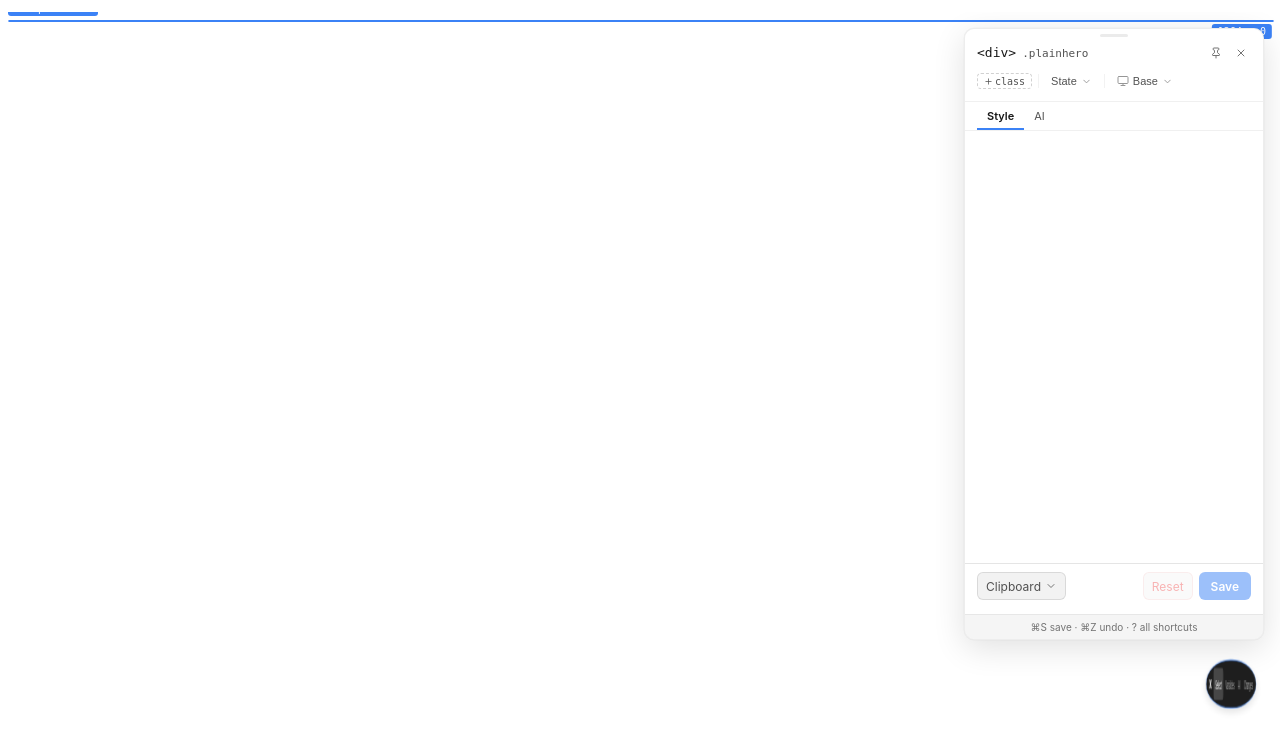
class creation UI (audit 05-class-creation) › rejects a class that is already on the element
Step 1. Click the button with aria-label "Add class" → coordinates (1005, 81), box [977,73,1032,89]
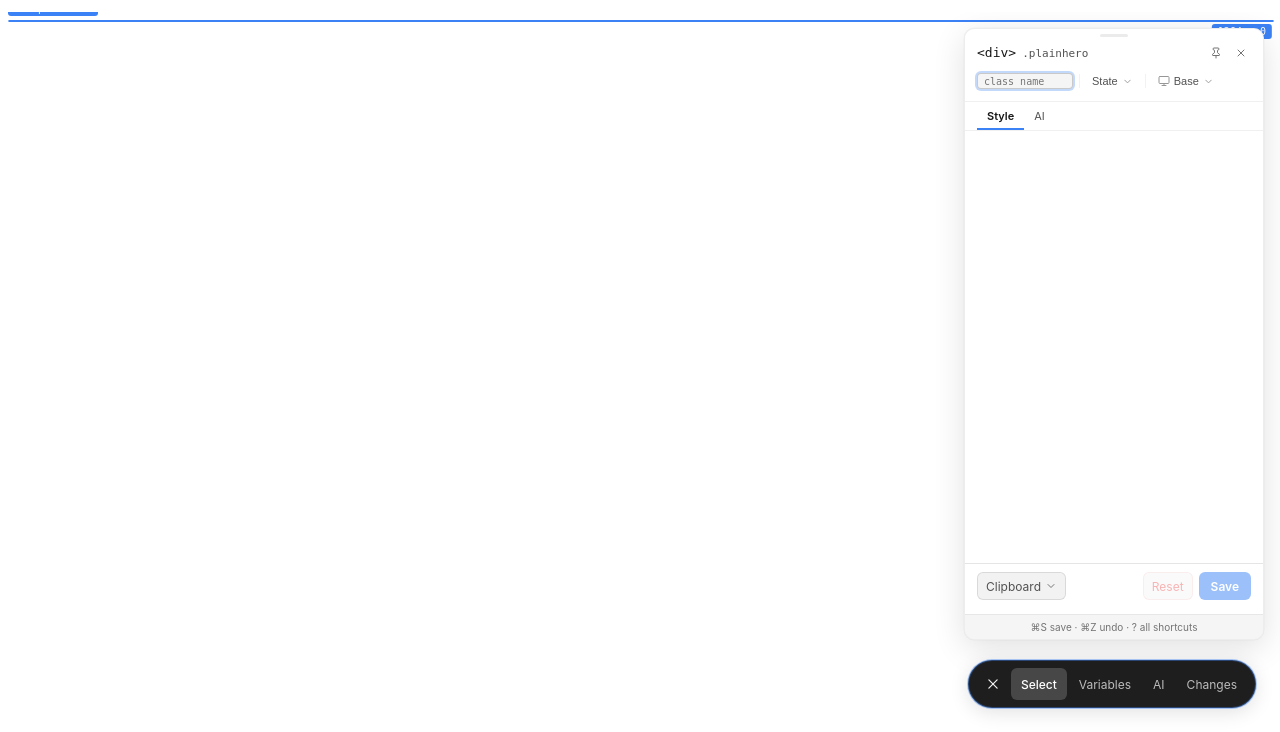
Check: the field named "New class name" is shown
Step 2. Type "plainhero" into the field named "New class name" → coordinates (1025, 81), box [977,73,1073,89]
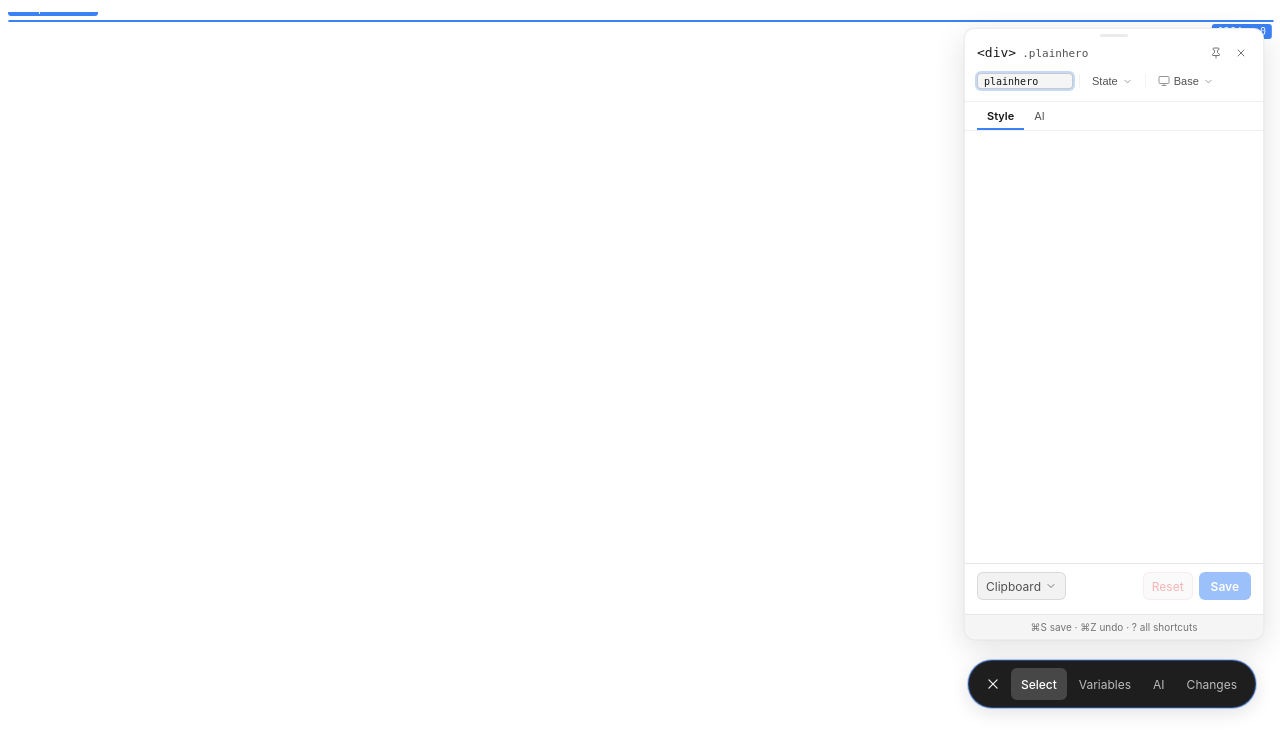
Step 3. Press Enter in the field named "New class name", box [977,73,1073,89]
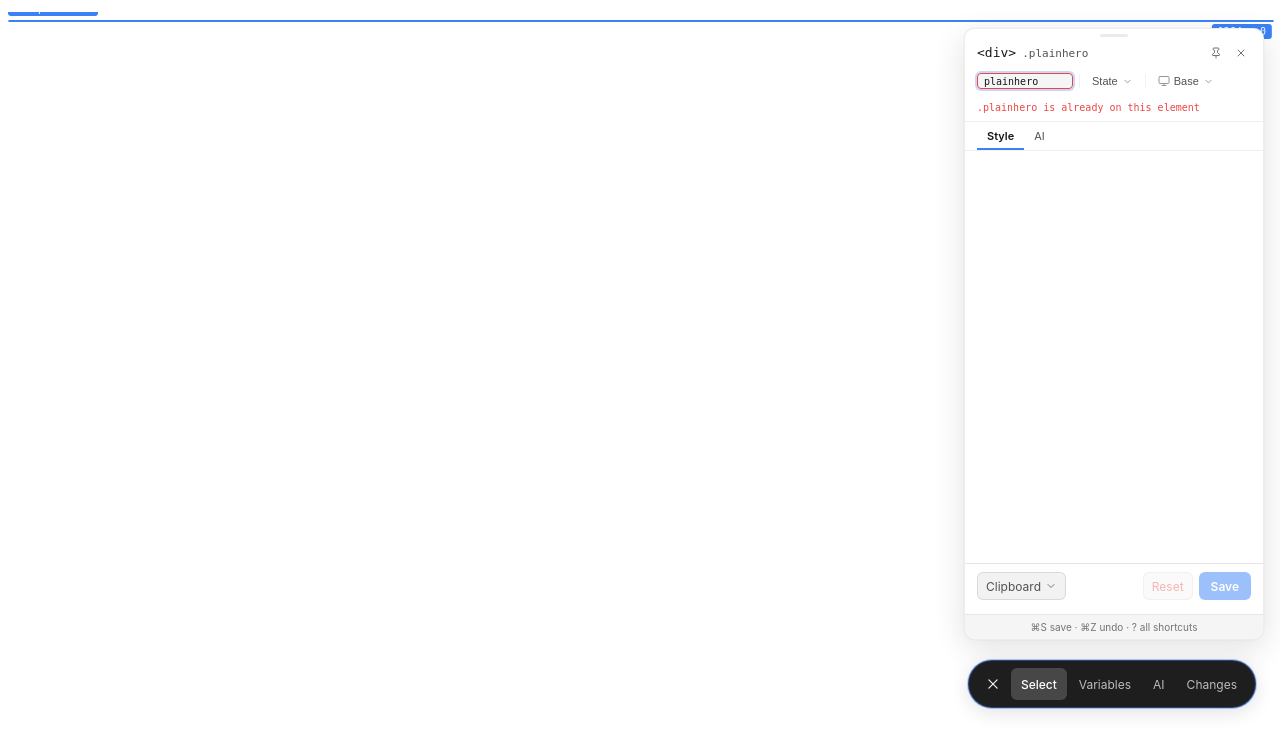
Check: the message ".plainhero is already on this element" is shown, box [977,102,1200,113]
